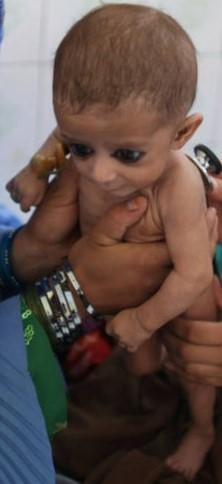Stunting: (34, 21, 210, 216)
